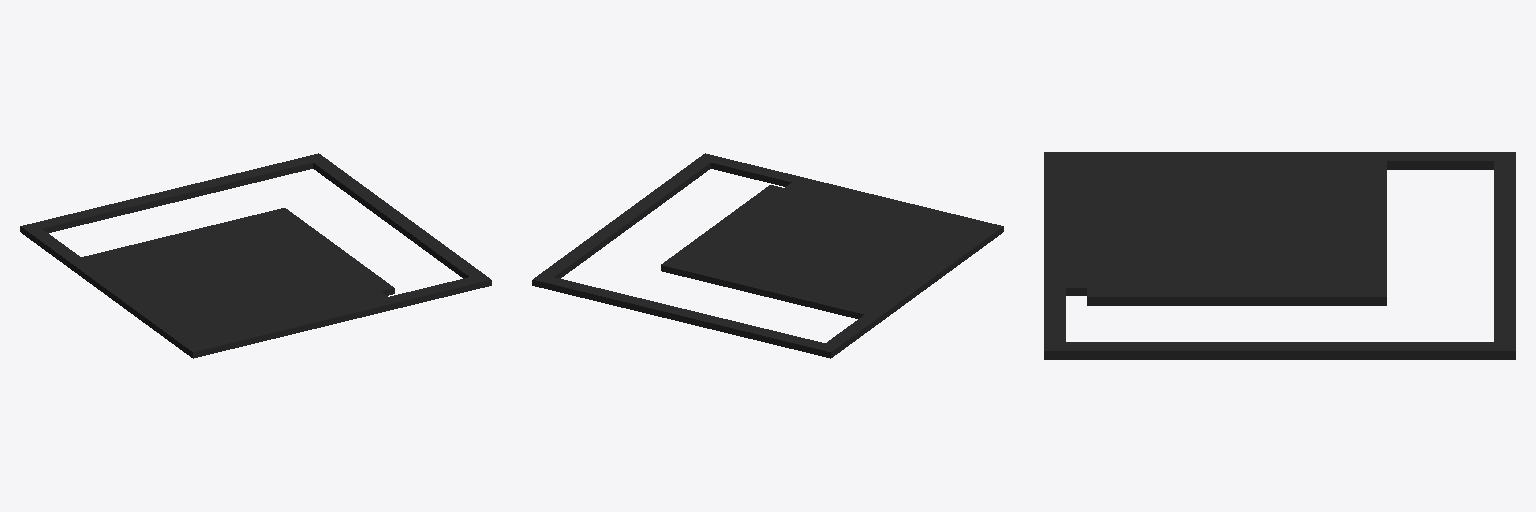
robot.urdf — Room2:
<robot name="Room2">
    <link name="_name">
        <visual> 
            <origin rpy="0.0 0.0 0.0" xyz="-0.4175036035967827 -0.4183398946753886 -0.009999999999999997" />
                <geometry>
                    <mesh filename="Room2/Room2.obj" scale="1 1 0.1" />
                </geometry>

            <material name="black">
                <color rgba="0.2 0.2 0.2 0.95" />
            </material>
        </visual>

       <collision concave="yes" name="collision_0">
            <origin rpy="0.0 0.0 0.0" xyz="-0.4175036035967827 -0.4183398946753886 -0.009999999999999997" />
            <geometry>
                <mesh filename="Room2/Room2_vhacd.obj" scale="1 1 0.1" />
            </geometry>
        </collision>

        <inertial> 
            <mass value="0" />
            <inertia ixx="0" ixy="0" ixz="0" iyy="0" iyz="0" izz="0" />
        </inertial> 
    </link>
</robot>

--- Render facts (derived) ---
The picture shows the robot from 3 angles, left to right: view 1: azimuth 30°, elevation 25°; view 2: azimuth 150°, elevation 25°; view 3: azimuth 270°, elevation 25°; orthographic projection.
Model Room2 with 1 links and 0 joints (none), rooted at _name, posed every joint at zero.
Visible links, largest first — view 1: _name; view 2: _name; view 3: _name.
Link boxes in pixels (x1,y1,x2,y2): _name: (20, 153, 491, 358); _name: (532, 153, 1003, 358); _name: (1044, 152, 1515, 359).
Size in the robot's own frame: 1 by 1 by 0.02 metres.
1 mesh visuals loaded from 1 distinct referenced files (1 OBJ).